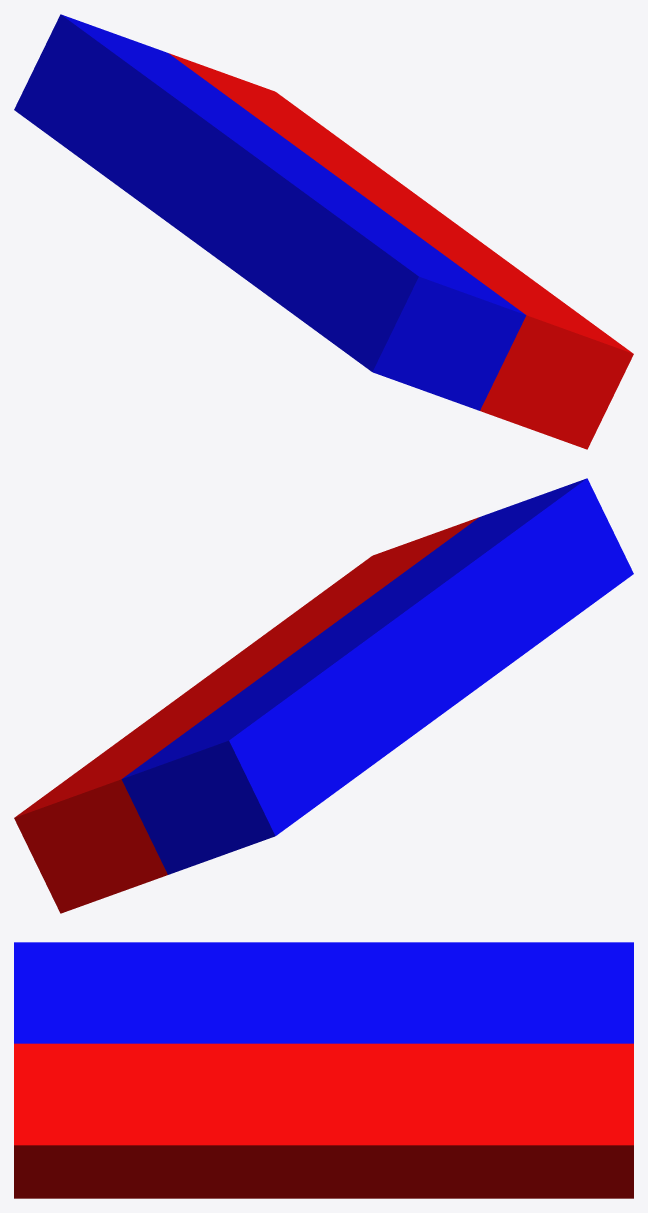
The model's file is DCblStator2.glb.
3 renders of one model, top to bottom at view 1: azimuth 30°, elevation 25°; view 2: azimuth 150°, elevation 25°; view 3: azimuth 270°, elevation 25°, orthographic. The views are drawn at different scales.
Parts seen in each view (by area): view 1: 立方体.001; view 2: 立方体.001; view 3: 立方体.001.
Boxes of the visible parts, x1,y1,x2,y2 form: 立方体.001: [14, 14, 633, 449]; 立方体.001: [14, 478, 633, 913]; 立方体.001: [14, 942, 633, 1198].
Size of the model in its own units: 1.69 by 1.32 by 4.
